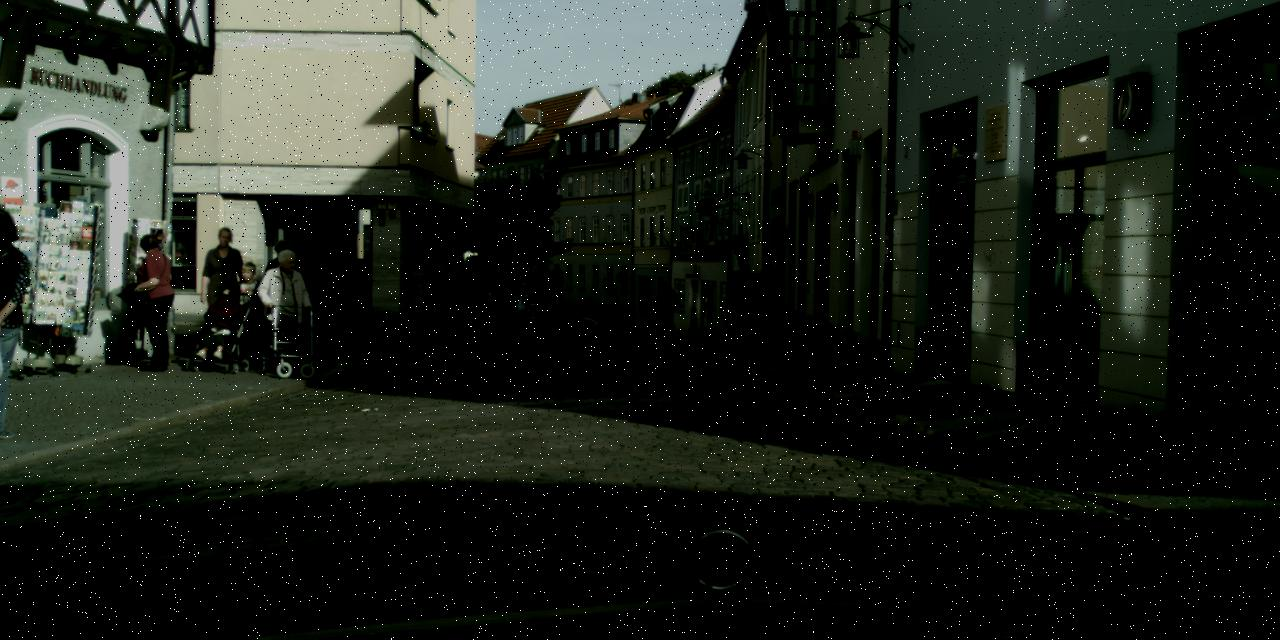ped: (124, 232, 180, 370), (199, 226, 250, 352), (262, 249, 307, 362), (262, 240, 306, 350), (228, 260, 270, 366), (656, 282, 676, 331), (518, 282, 536, 327), (582, 296, 598, 334)
